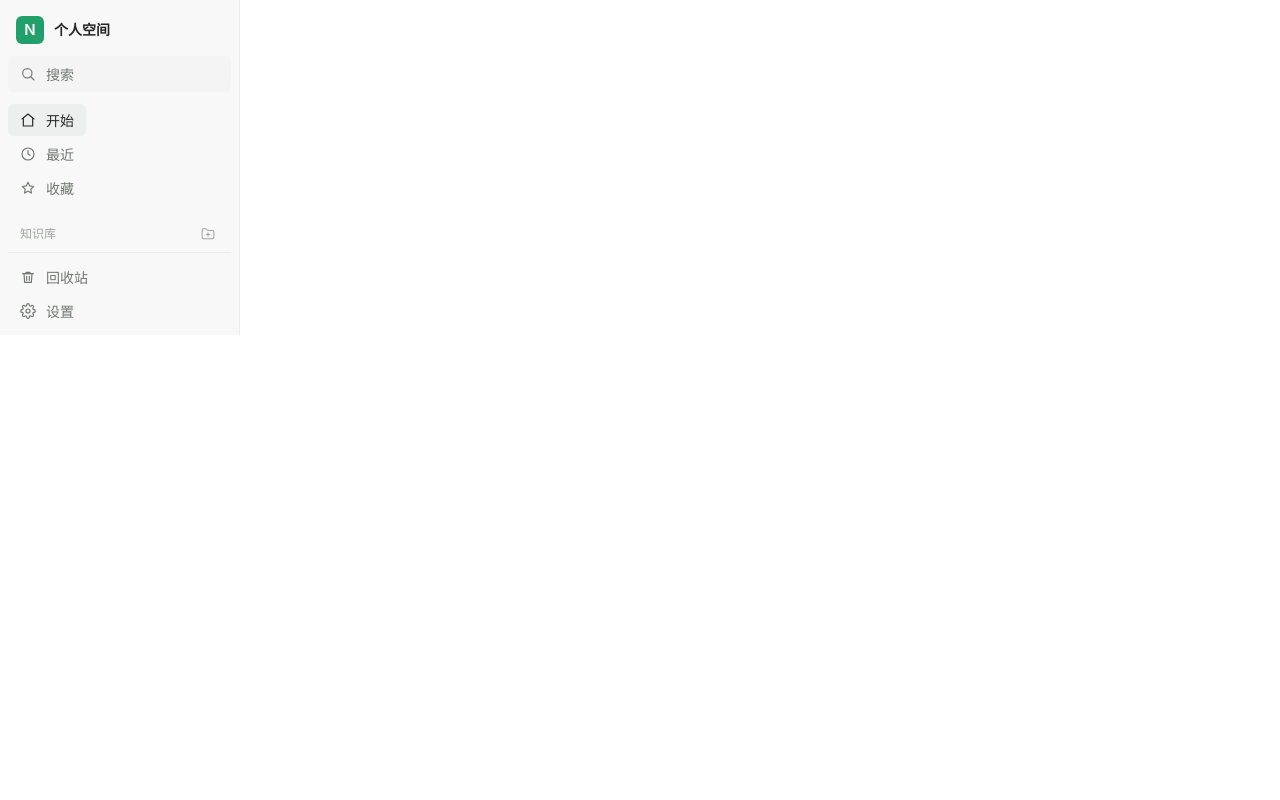
Test: GlobalSidebar（Desktop 能力，R006 阶段 2 / C2.1） › 未初始化目录：「取消」确认框后无变化（不产生知识库、不调 openSelection）
This screenshot has width=1280, height=800.
Click the button named "打开本地知识库". click: (208, 234)
box: [197,223,219,245]
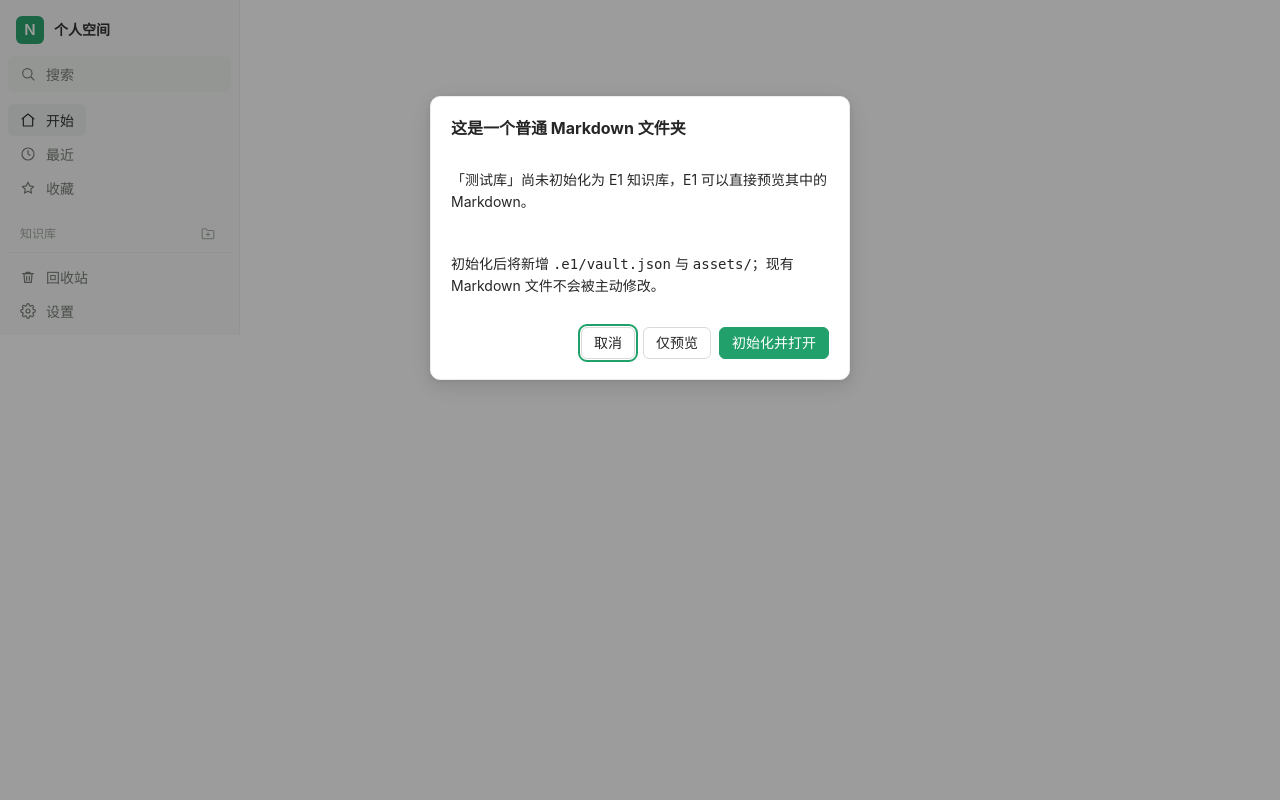
Expected: the dialog named "打开本地文件夹" is shown, [430,96,850,380]
Click the button "取消". click: (608, 343)
box: [581,327,635,359]
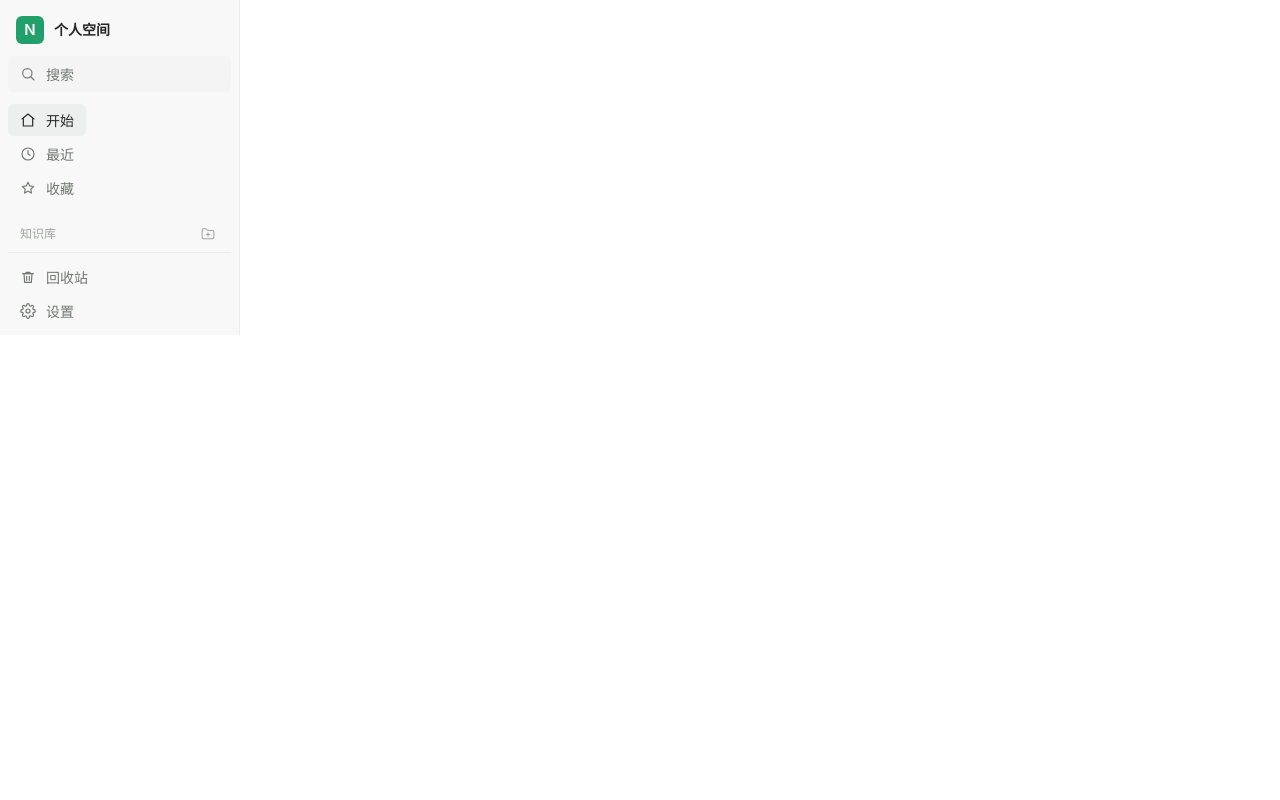
Expected: the dialog "打开本地文件夹" is gone
